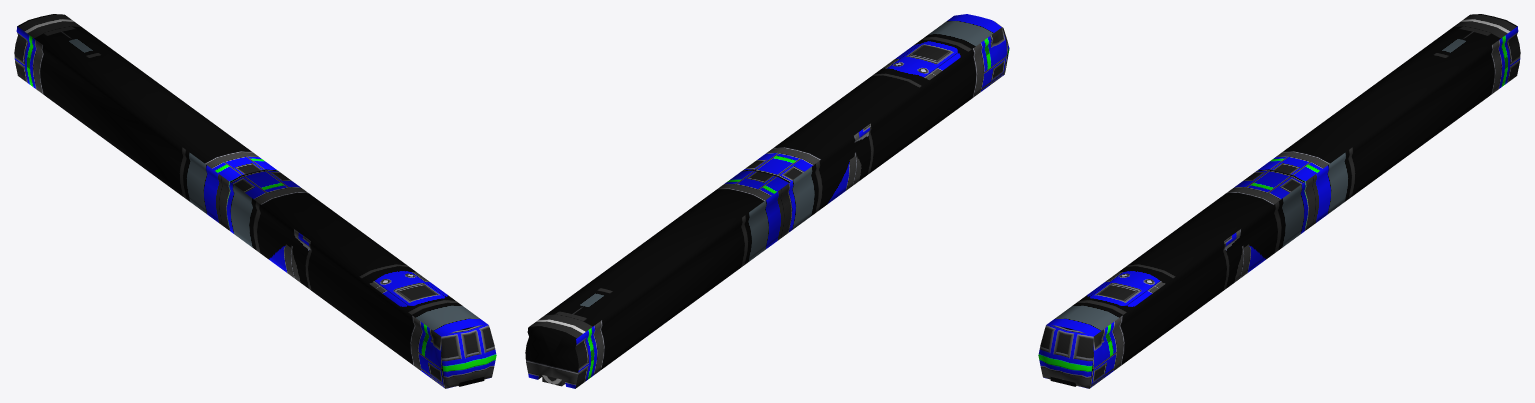
The model's file is BartNew.fbx.
3 renders of one model, left to right at view 1: azimuth 30°, elevation 25°; view 2: azimuth 150°, elevation 25°; view 3: azimuth 330°, elevation 25°, orthographic.
Visible parts, largest first — view 1: BART; view 2: BART; view 3: BART.
Part boxes in pixels (x1,y1,x2,y2): BART: [14, 14, 496, 388]; BART: [525, 14, 1009, 388]; BART: [1038, 14, 1520, 388].
Size of the model in its own units: 109 by 107 by 1546.
